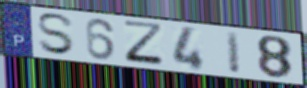4: (171, 24, 207, 72)
6: (84, 17, 116, 62)
8: (255, 33, 296, 80)
I: (225, 30, 243, 76)
S: (35, 12, 77, 57)
Z: (121, 19, 167, 68)
